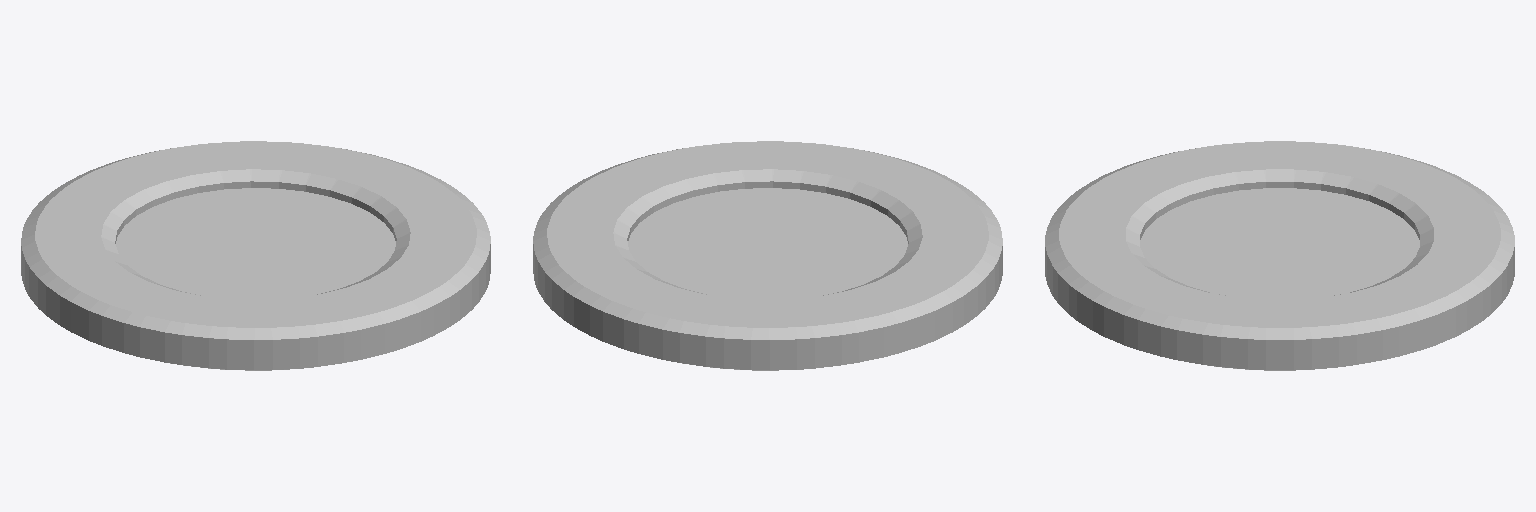
Rendered from RecessLight.obj.
3 renders of one model, left to right at view 1: azimuth 30°, elevation 25°; view 2: azimuth 150°, elevation 25°; view 3: azimuth 270°, elevation 25°, orthographic.
Parts seen in each view (by area): view 1: Circle; view 2: Circle; view 3: Circle.
Part boxes in pixels (bbox=[...]): Circle: bbox=[21, 141, 490, 370]; Circle: bbox=[533, 141, 1002, 370]; Circle: bbox=[1045, 141, 1514, 370].
Bounding box in the file's own units: 2.49 × 0.25 × 2.49.